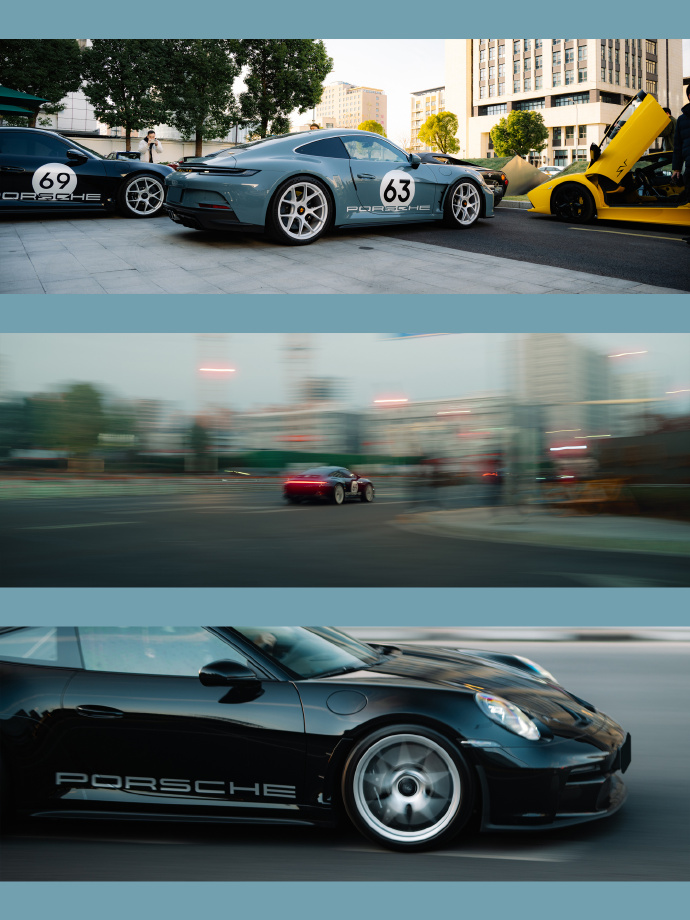other: (0, 611, 643, 846), (145, 130, 492, 248), (0, 124, 183, 218), (281, 456, 372, 509)
